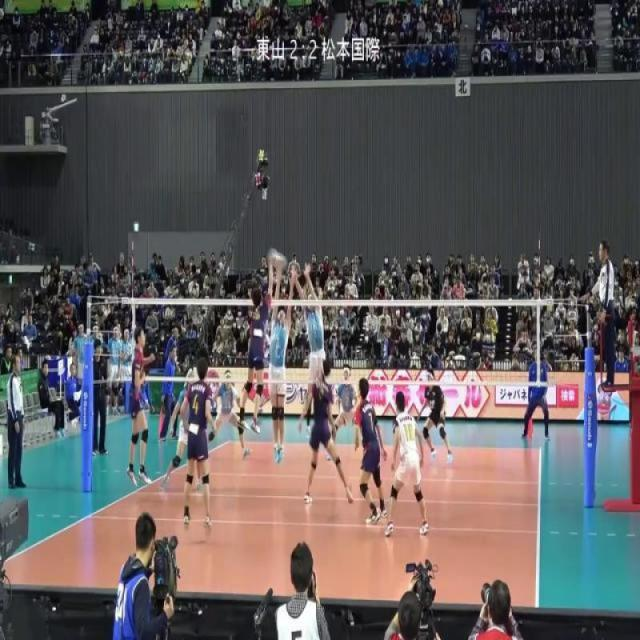volleyball: (266, 248, 289, 272)
